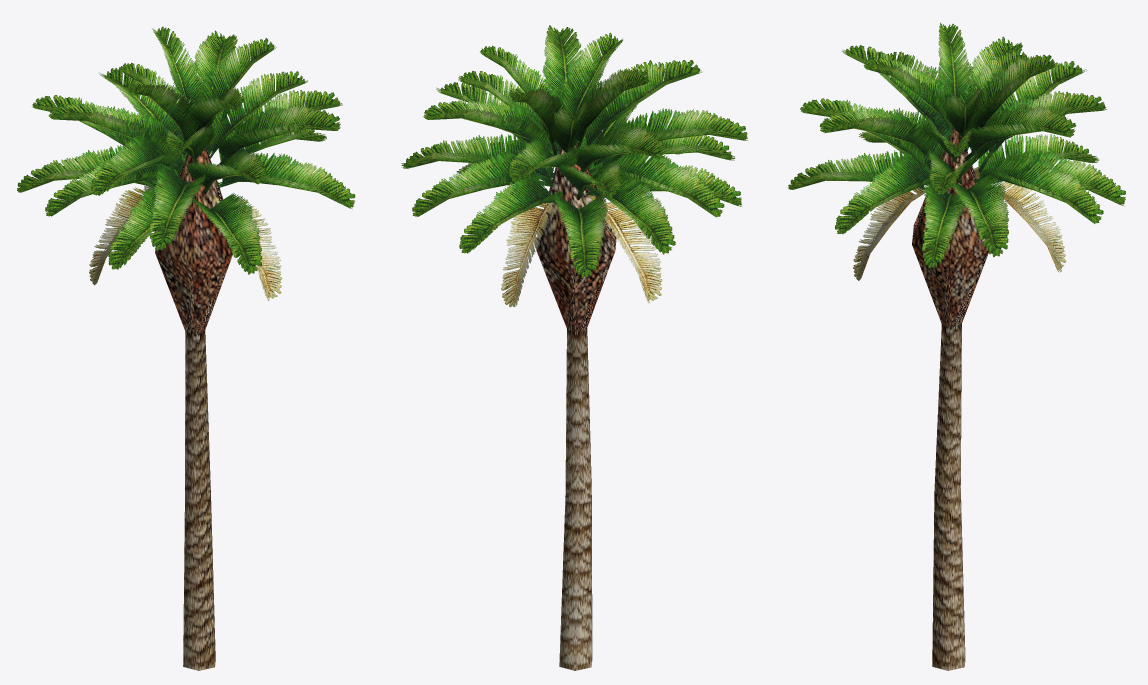
The model's file is palm_tropical_tall_1.glb.
3 views of the same model, side by side, from view 1: azimuth 30°, elevation 25°; view 2: azimuth 150°, elevation 25°; view 3: azimuth 270°, elevation 25° (orthographic).
Parts seen in each view (by area): view 1: palm_tropical_tall_1; view 2: palm_tropical_tall_1; view 3: palm_tropical_tall_1.
Boxes of the visible parts, <box> form: palm_tropical_tall_1: <box>17,26,355,670</box>; palm_tropical_tall_1: <box>401,25,747,670</box>; palm_tropical_tall_1: <box>788,22,1125,670</box>.
Bounding box in the file's own units: 4.64 × 8.91 × 4.59.
Materials: 1 (1 with a texture image).
